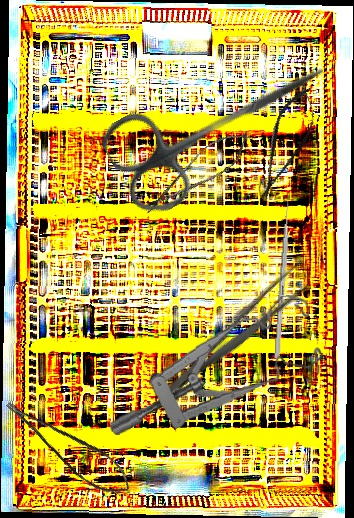Dressing Forceps: (152, 255, 319, 412)
Iris Scissors: (95, 21, 346, 224)
Micro Scissor: (2, 381, 138, 508), (135, 120, 260, 225), (247, 81, 326, 207)
Pusher: (274, 189, 292, 359)
Speculum: (99, 292, 329, 436)
